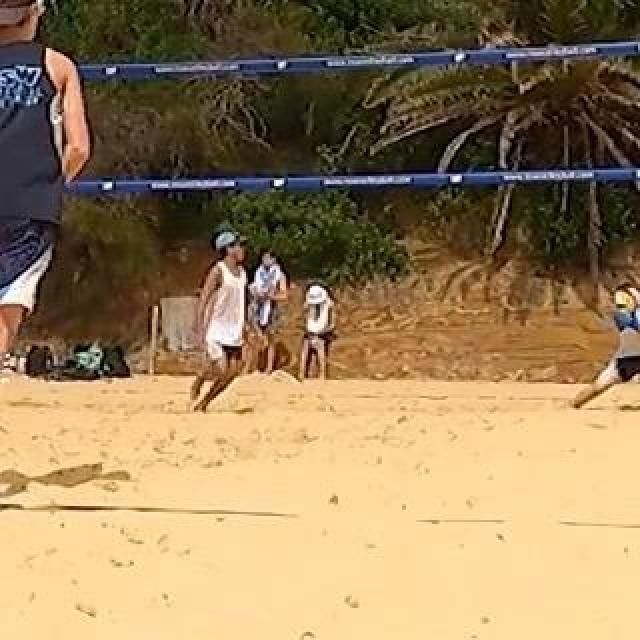volleyball: (614, 285, 640, 313)
